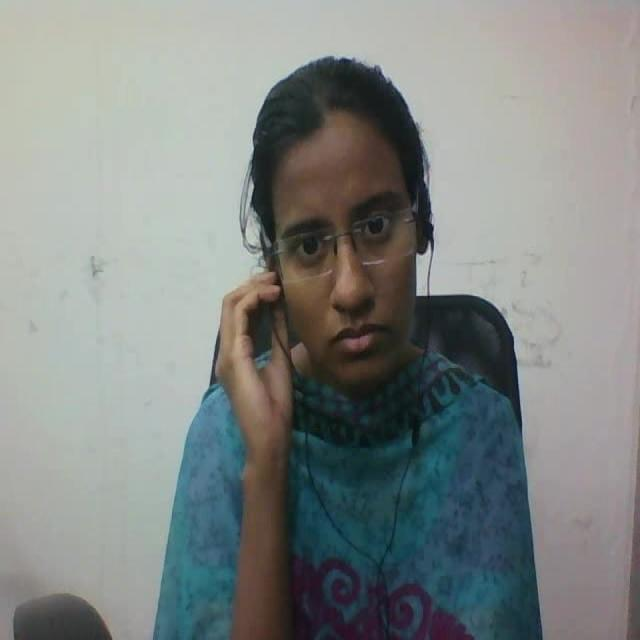Bored: (221, 19, 462, 462)
